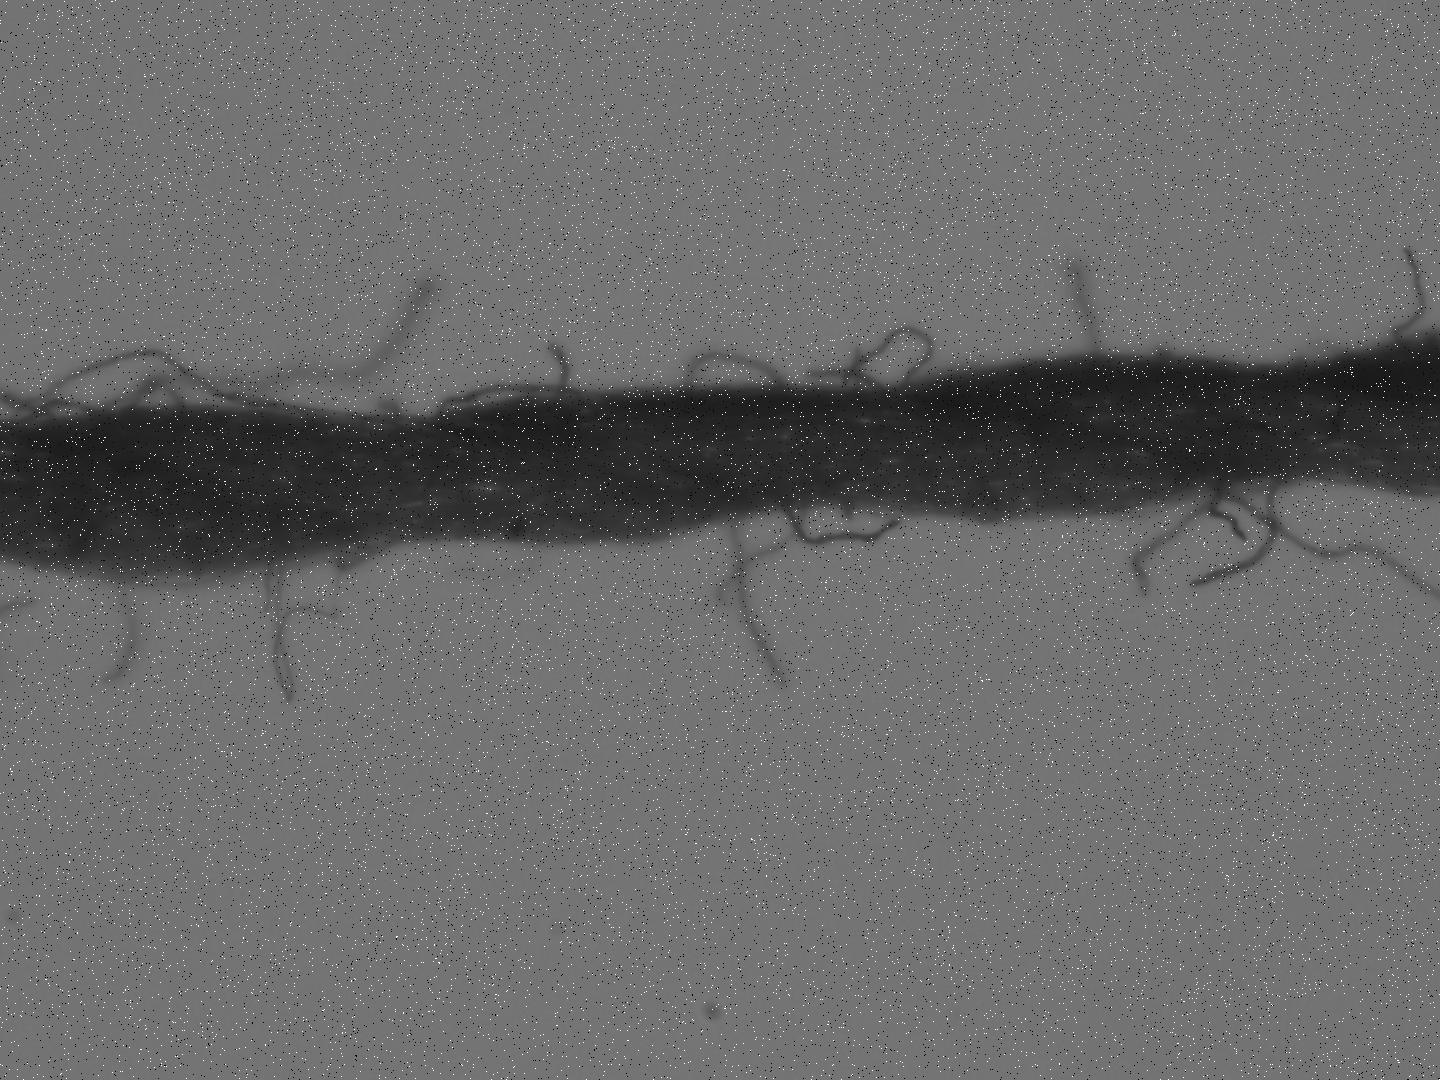loop_fiber: (1, 344, 373, 427), (268, 534, 405, 709), (806, 318, 939, 393), (431, 380, 591, 415), (678, 348, 788, 393)
protruding_fiber: (115, 267, 439, 417), (1219, 470, 1439, 599), (1187, 474, 1301, 594), (1127, 483, 1229, 606), (729, 504, 793, 691), (712, 493, 803, 615), (782, 493, 904, 550), (1388, 238, 1433, 351), (94, 572, 137, 690), (1065, 259, 1106, 356), (1201, 471, 1253, 545), (540, 335, 573, 399), (261, 559, 287, 617)
